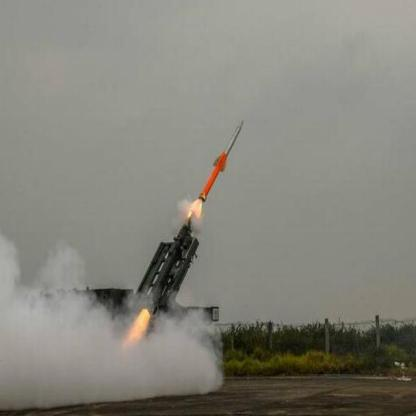MIL_TBM: (193, 113, 244, 212)
